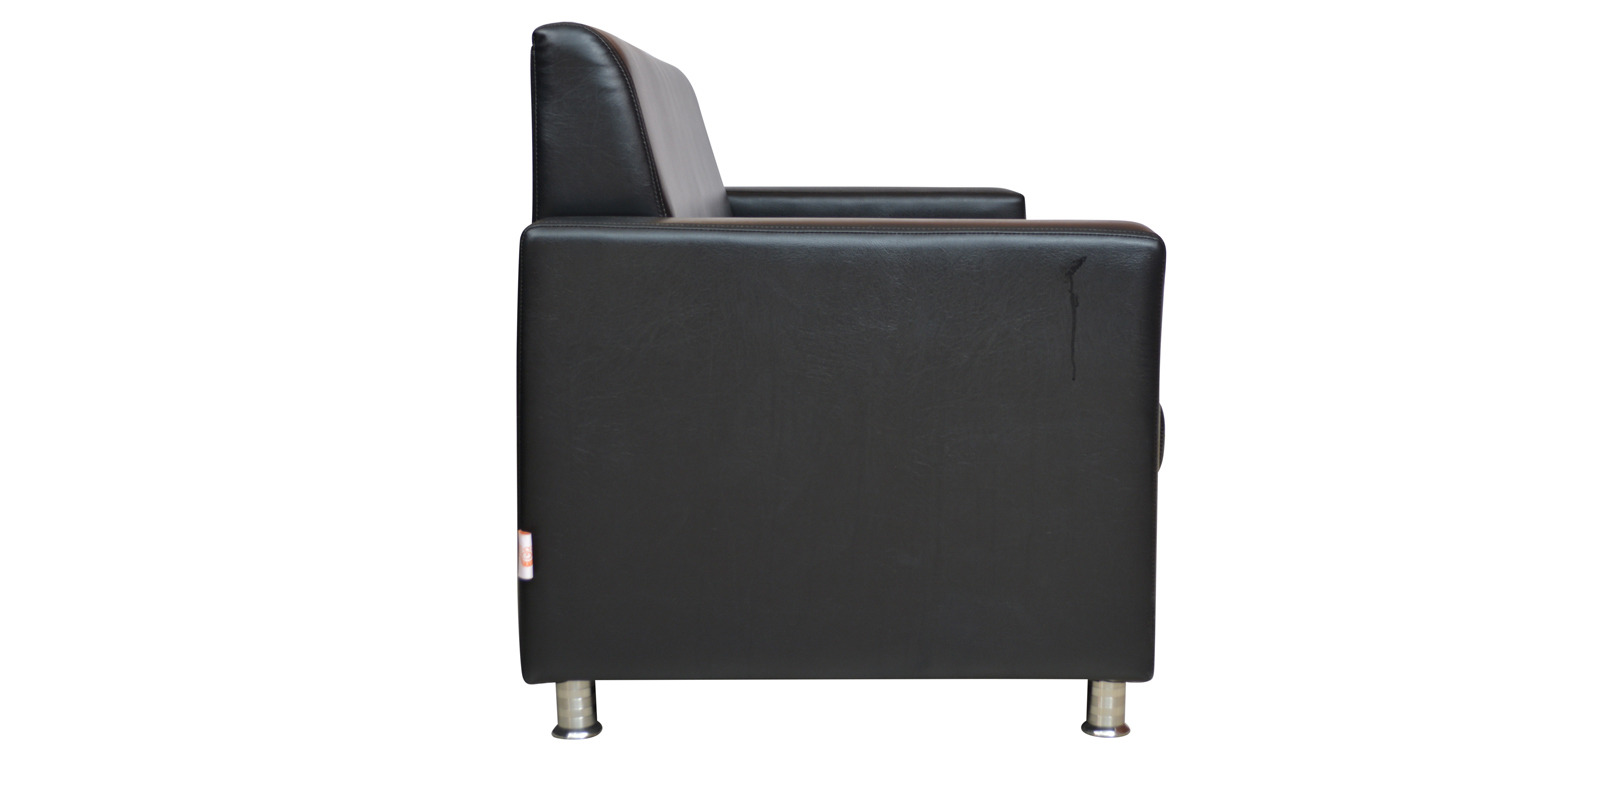Felix Three Seater Sofa in Black Leatherette by Crystal Furnitech: (482, 16, 1182, 774)
